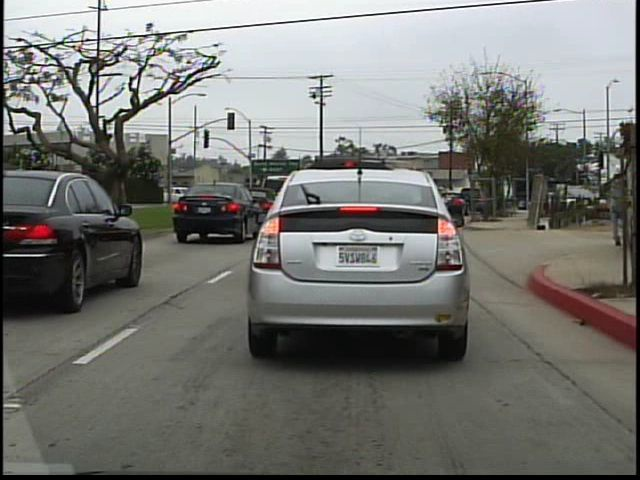person: (607, 158, 627, 247)
